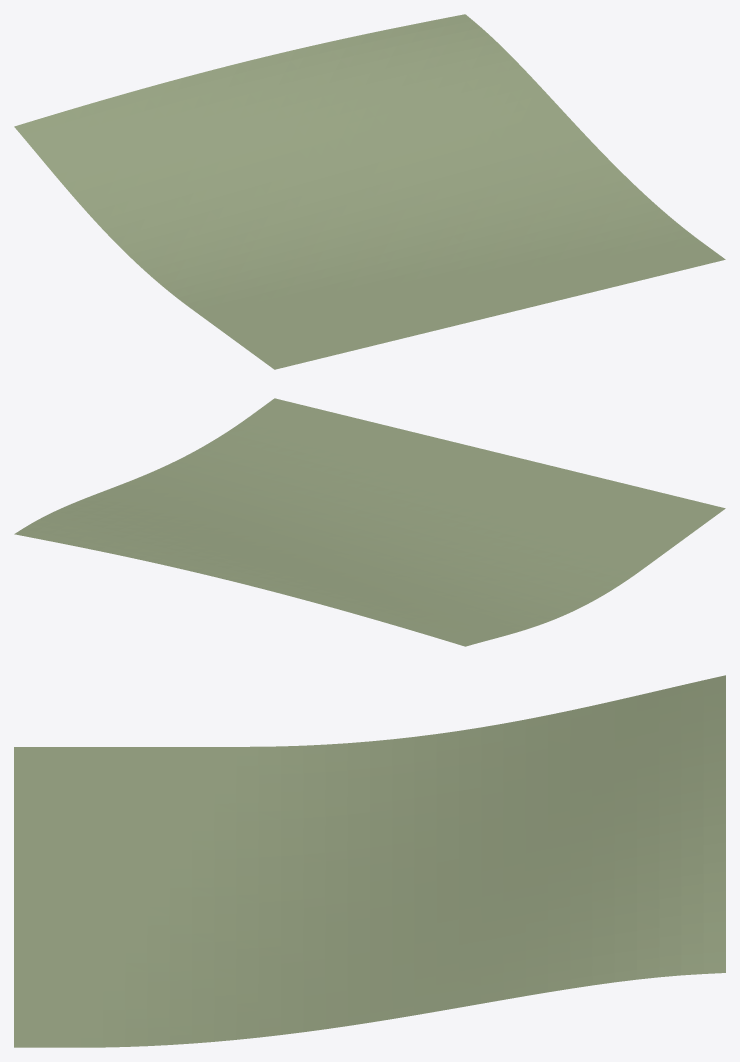
Rendered from valley-11-7.glb.
The picture shows the model from 3 angles, top to bottom: view 1: azimuth 30°, elevation 25°; view 2: azimuth 150°, elevation 25°; view 3: azimuth 270°, elevation 25°; orthographic projection. The views are drawn at different scales.
Visible parts, largest first — view 1: valley-11-7; view 2: valley-11-7; view 3: valley-11-7.
Part boxes in pixels (x1,y1,x2,y2): valley-11-7: (14, 14, 725, 369); valley-11-7: (14, 398, 725, 646); valley-11-7: (14, 675, 725, 1047).
Bounding box in the file's own units: 256 × 33.05 × 256.
